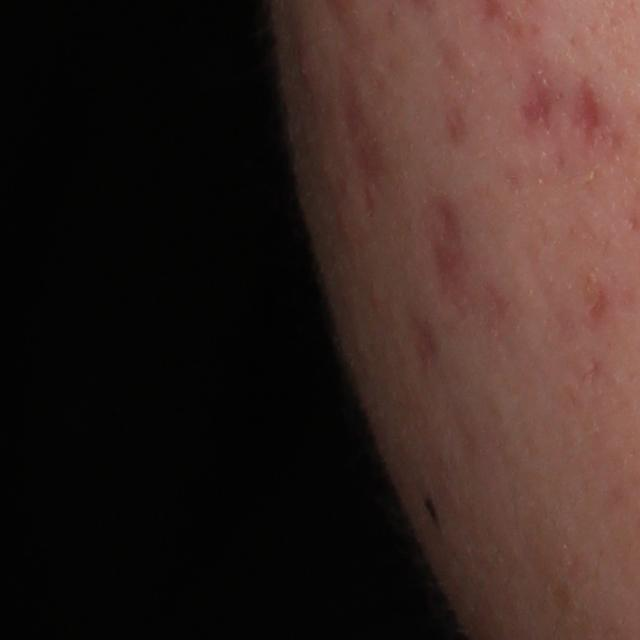atrophic_scar: (342, 80, 385, 214), (430, 190, 475, 301), (565, 77, 601, 151), (410, 310, 443, 367), (519, 86, 554, 130)
